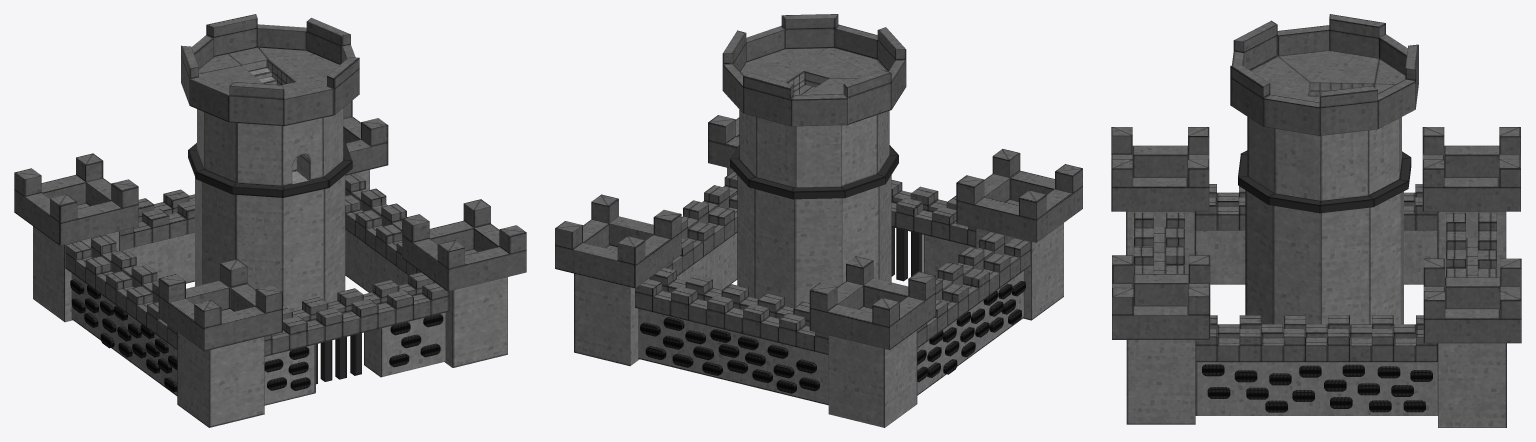
Rendered from castle.obj.
3 renders of one model, left to right at view 1: azimuth 30°, elevation 25°; view 2: azimuth 150°, elevation 25°; view 3: azimuth 270°, elevation 25°, orthographic. The views are drawn at different scales.
Parts seen in each view (by area): view 1: Cube.004_Cube.006; view 2: Cube.004_Cube.006; view 3: Cube.004_Cube.006.
Part boxes in pixels (left/top/right/bottom): Cube.004_Cube.006: left=14, top=14, right=526, bottom=427; Cube.004_Cube.006: left=555, top=14, right=1082, bottom=427; Cube.004_Cube.006: left=1111, top=14, right=1521, bottom=427.
Bounding box in the file's own units: 3.38 × 2.68 × 3.39.
Materials: 1 (1 with a texture image).
